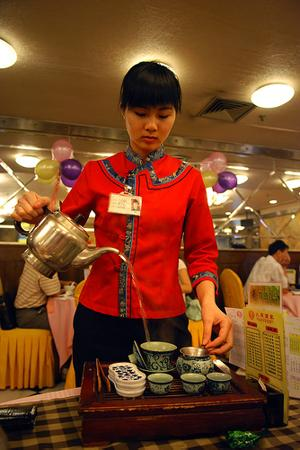person: (12, 60, 235, 387)
